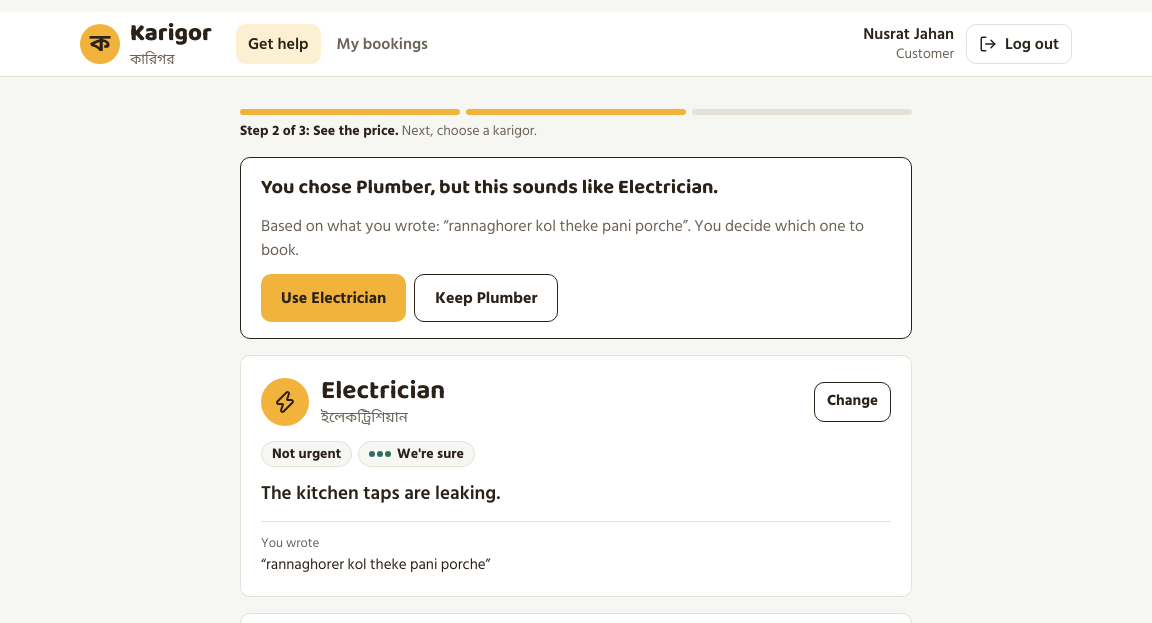
Scenario: result page › lets quick path customers keep their own service
Check: the heading "You chose Plumber, but this sounds like Electrician." is shown, box [261, 171, 718, 205]
Click the button "Keep Plumber" at (486, 298), box [414, 274, 558, 322]
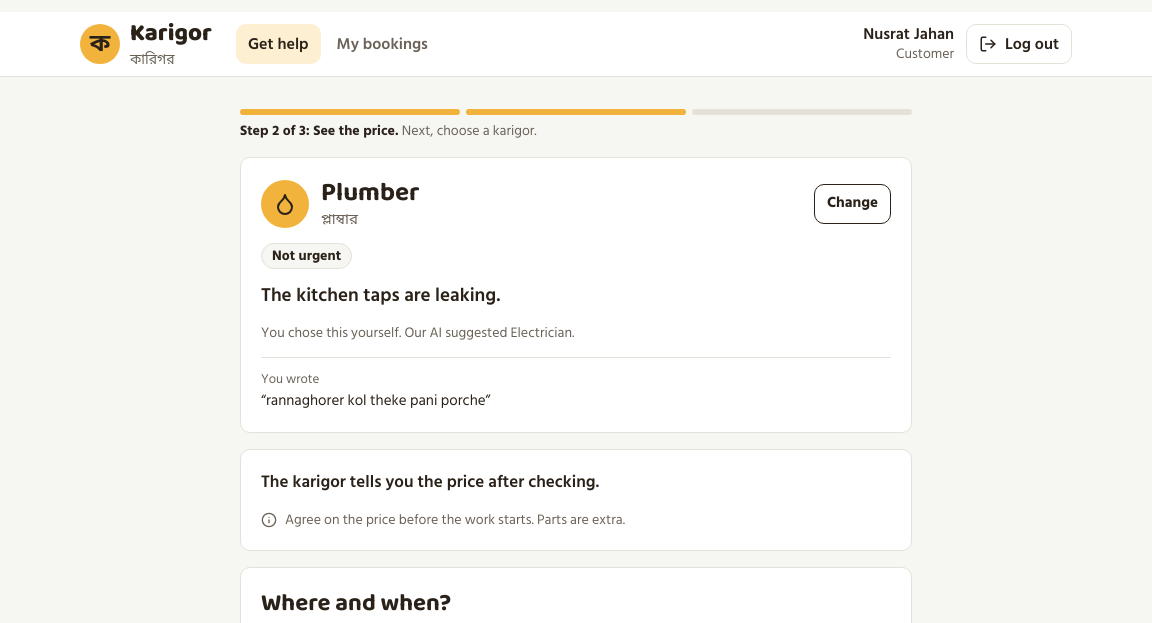
Check: the heading "Plumber" is shown, box [321, 178, 420, 210]
Check: the heading "but this sounds like" is gone
Check: the text "You chose this yourself. Our AI suggested Electrician." is shown, box [261, 321, 574, 344]
